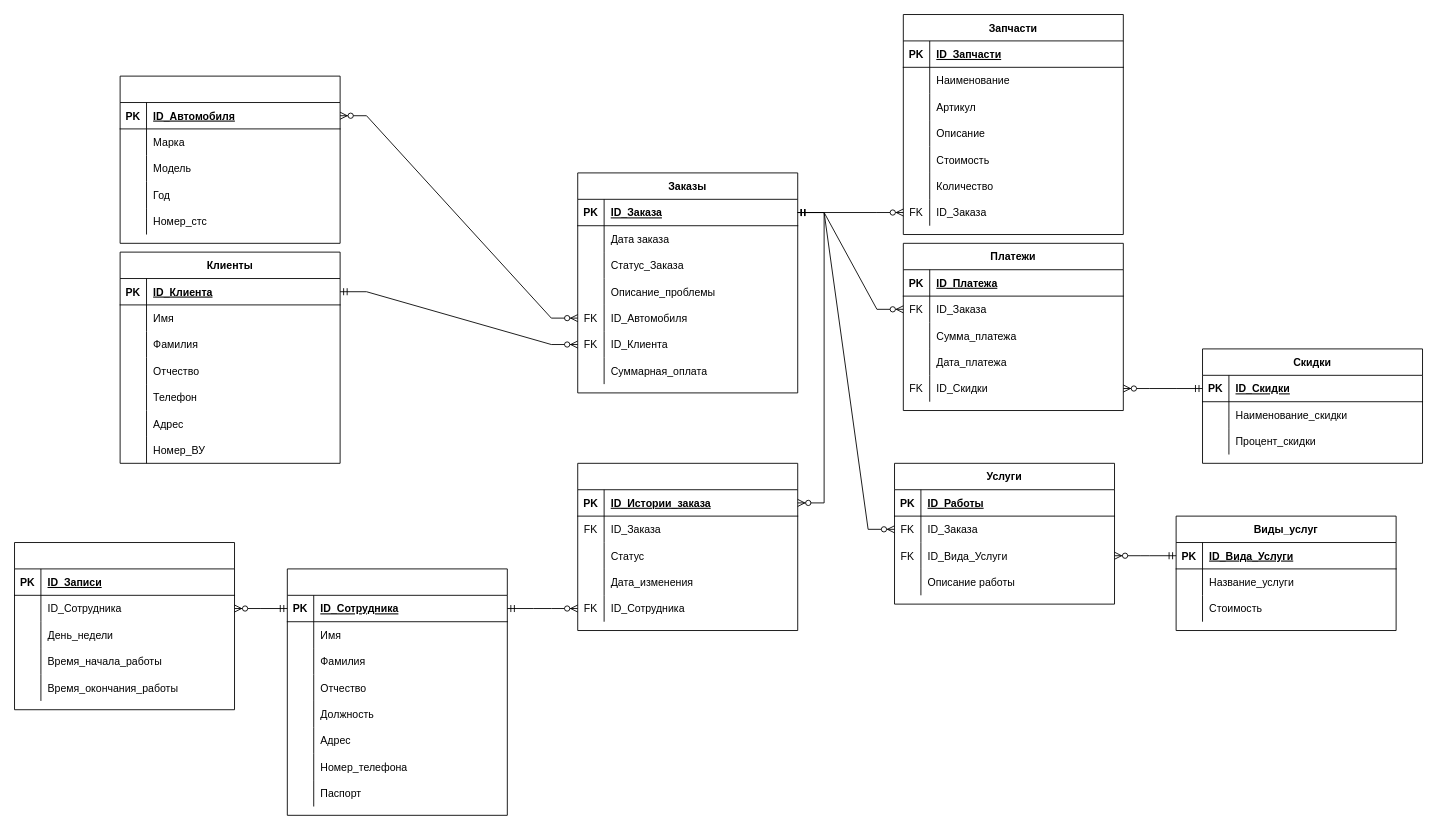
This 1437x830 diagram has some shape labels left out. The box of each missing label's shape, as (x1, y1, x2, y2) in pixels:
Автомобили: (119, 75, 340, 243)
График_работы: (14, 542, 235, 710)
История_заказов: (577, 462, 798, 631)
Сотрудники: (286, 568, 507, 815)
